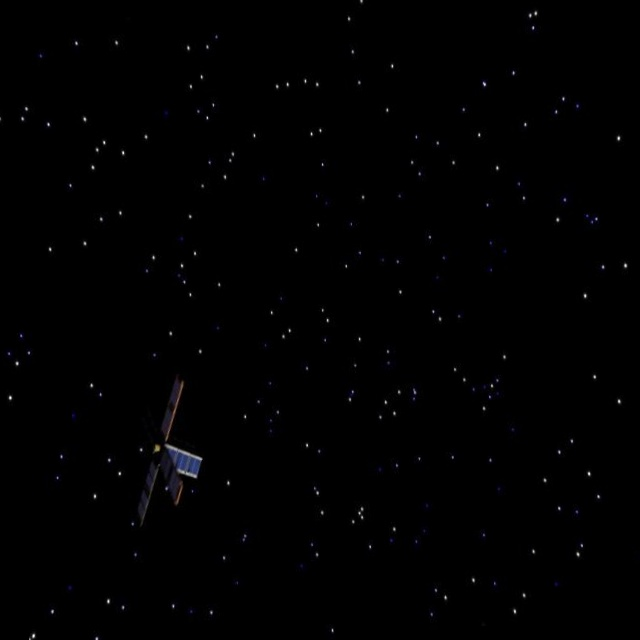satellite: (111, 378, 211, 539)
